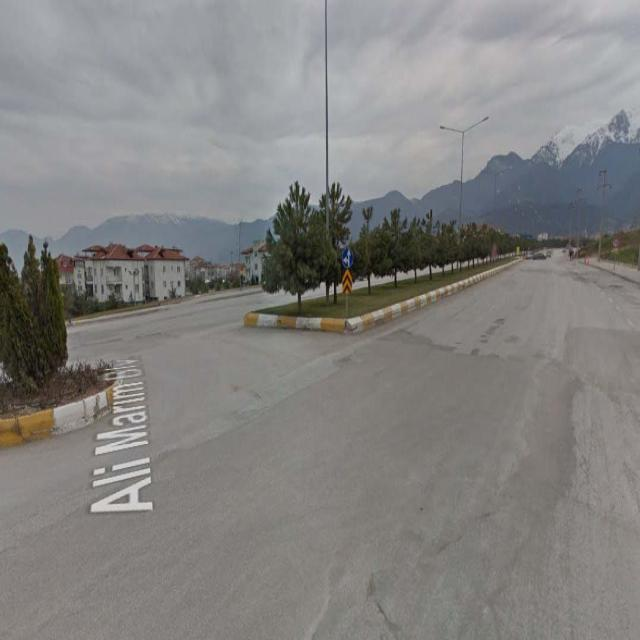ilerisol: (342, 248, 353, 267)
